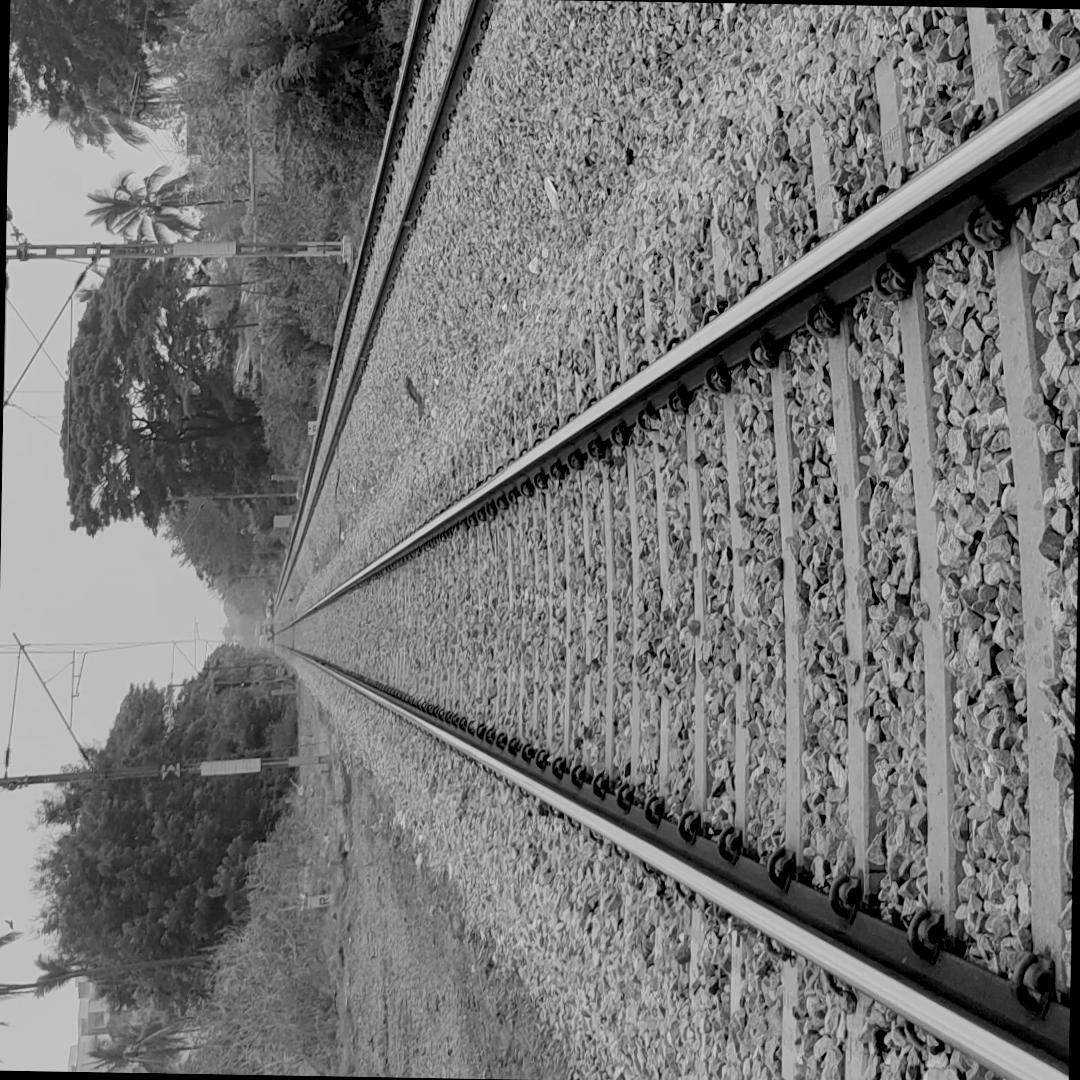track: (244, 35, 1080, 1080)
